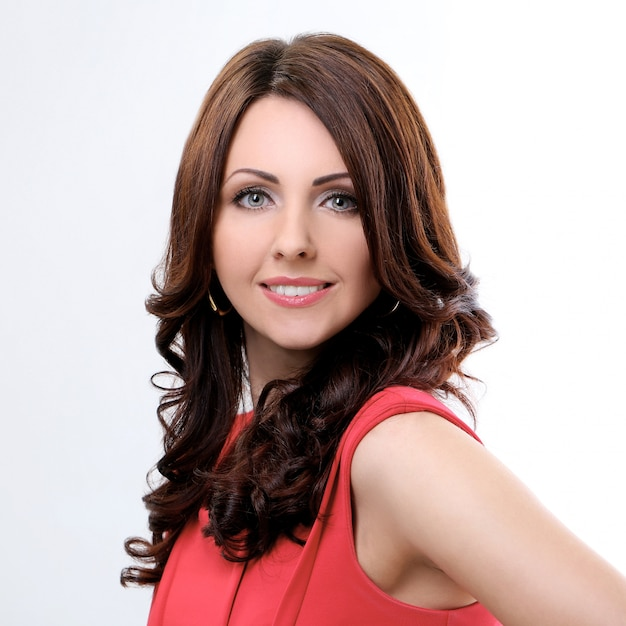young: (173, 25, 450, 395)
